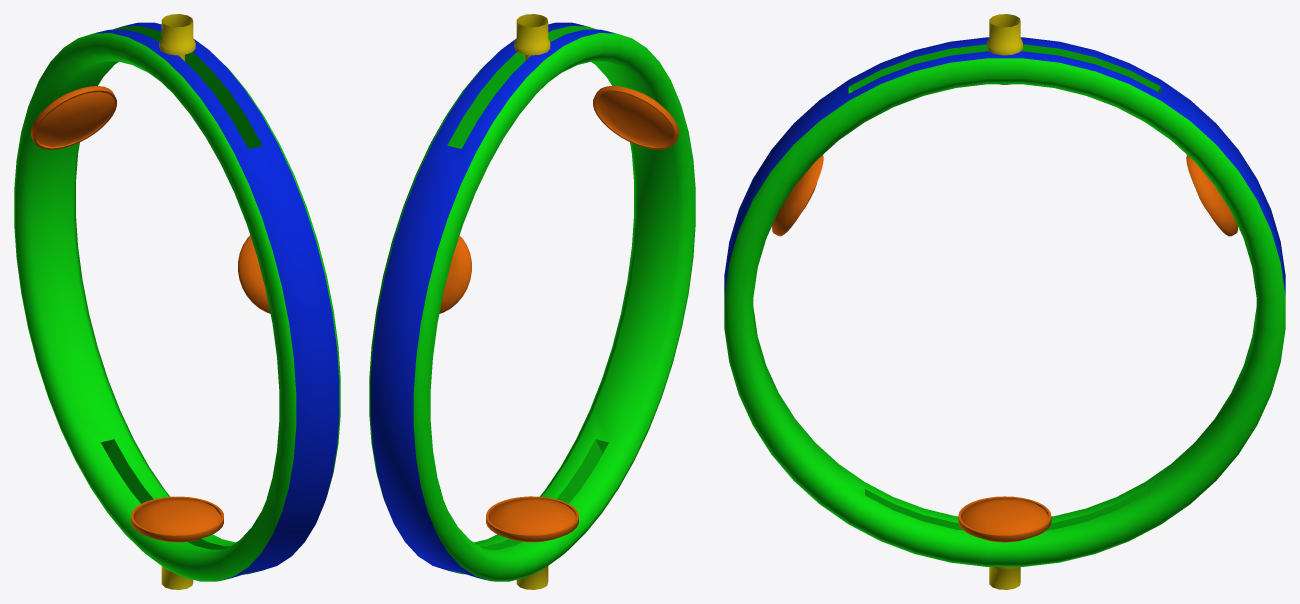
File: Gyro_Inner.fbx
The picture shows the model from 3 angles, left to right: view 1: azimuth 30°, elevation 25°; view 2: azimuth 150°, elevation 25°; view 3: azimuth 270°, elevation 25°; orthographic projection.
Visible parts, largest first — view 1: Inner; view 2: Inner; view 3: Inner.
Boxes of the visible parts, <box> form: Inner: <box>14,14,340,589</box>; Inner: <box>369,14,695,589</box>; Inner: <box>724,14,1285,589</box>.
Bounding box in the file's own units: 9.44 × 62.87 × 56.82.
